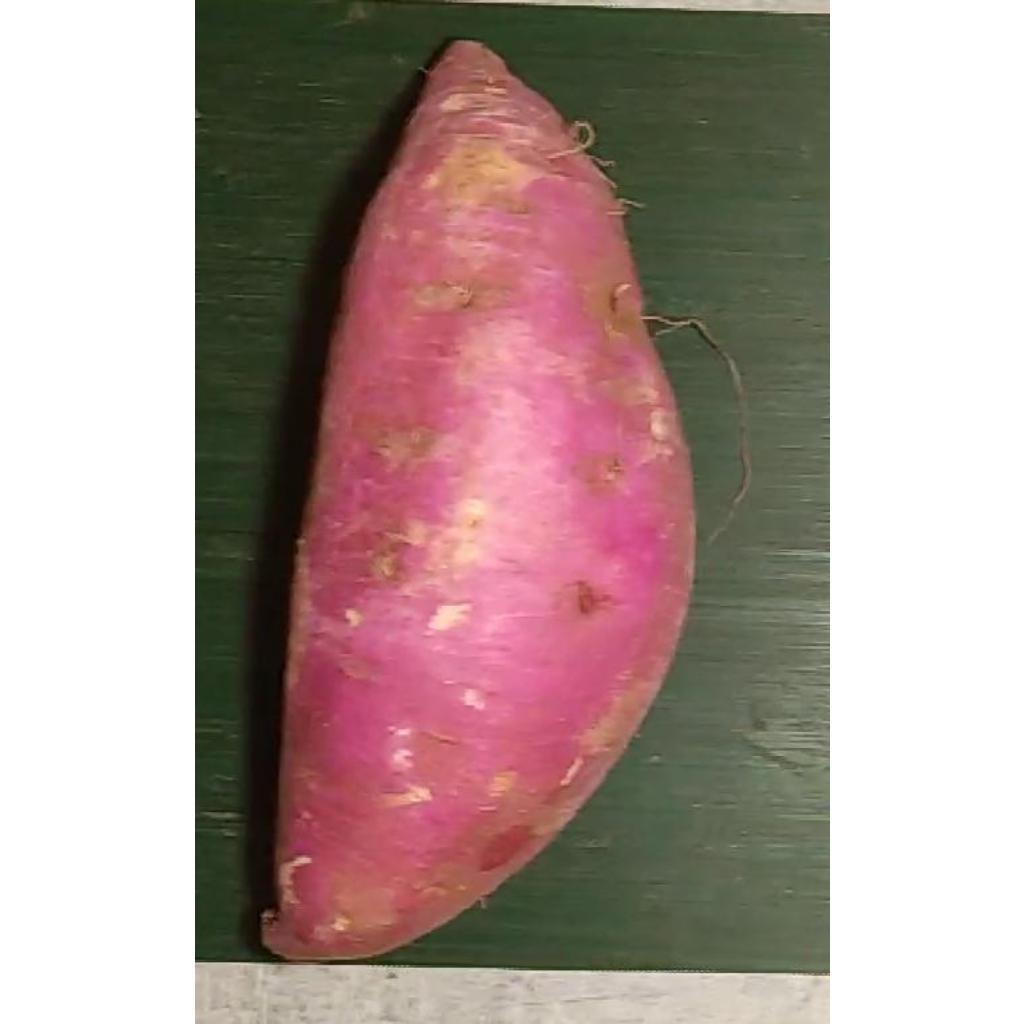Sweet Potato: (264, 40, 686, 966)
